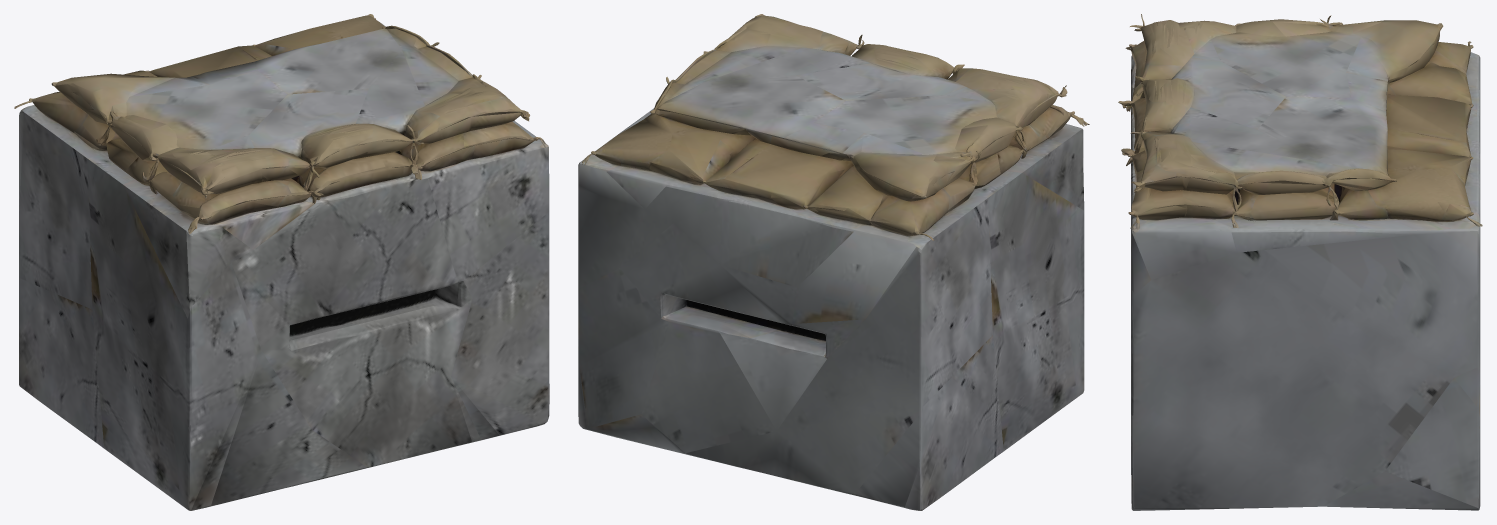
Rendered from bunker.glb.
3 views of the same model, side by side, from view 1: azimuth 30°, elevation 25°; view 2: azimuth 150°, elevation 25°; view 3: azimuth 270°, elevation 25° (orthographic). The views are drawn at different scales.
Parts seen in each view (by area): view 1: bunker; view 2: bunker; view 3: bunker.
Part boxes in pixels (bbox=[...]): bunker: bbox=[14, 14, 549, 510]; bunker: bbox=[578, 14, 1089, 510]; bunker: bbox=[1118, 14, 1482, 510].
Size of the model in its own units: 2.94 by 2.5 by 2.47.
1 material, 1 textured.
